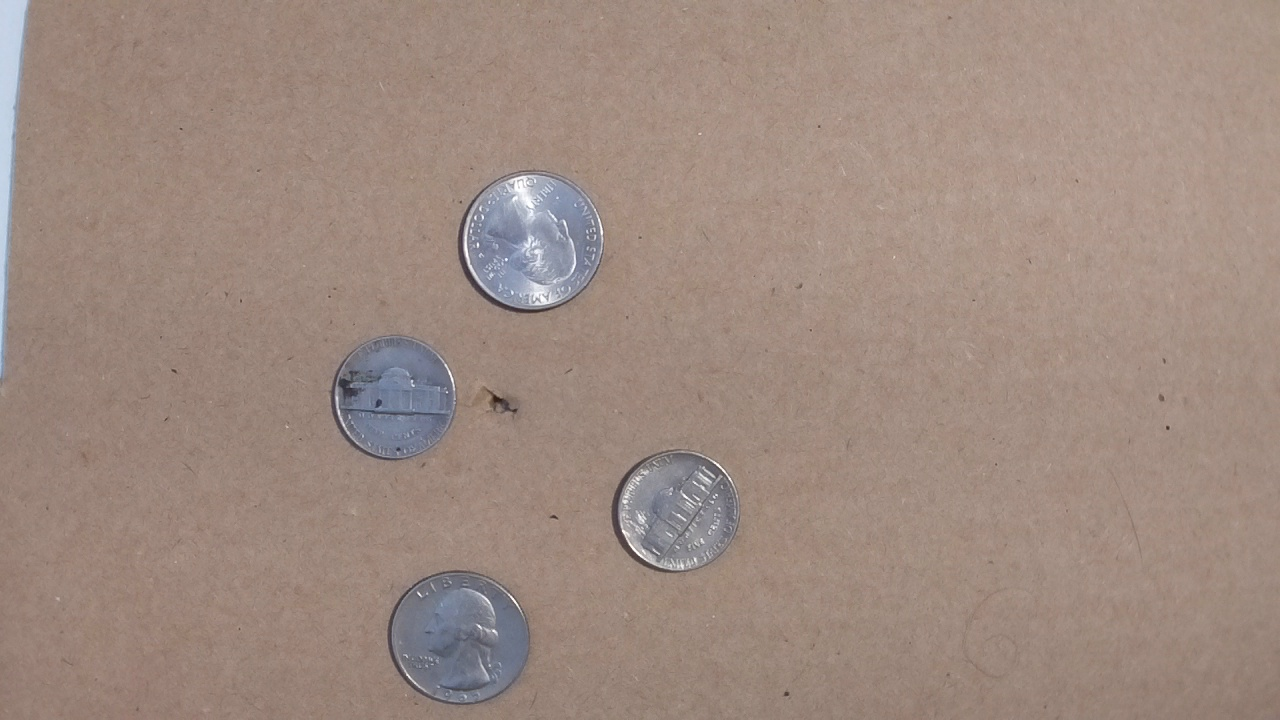nickel: (328, 332, 458, 464), (610, 446, 742, 574)
quarter: (458, 166, 606, 314), (382, 568, 532, 710)
